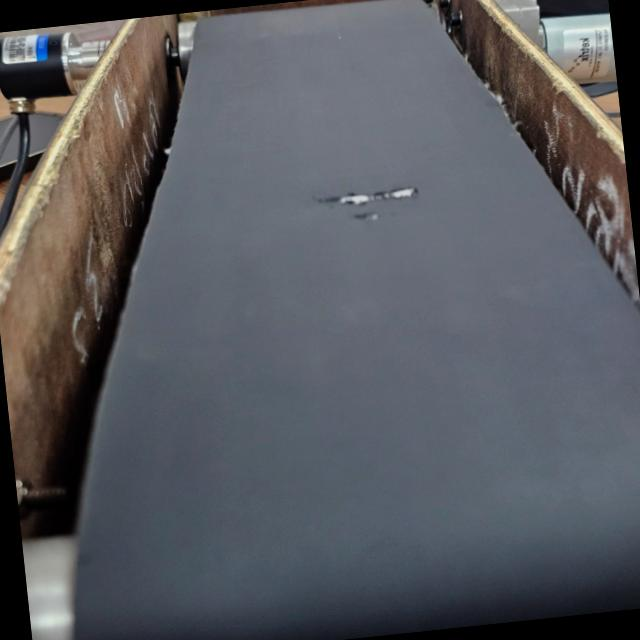eroded: (254, 184, 425, 245)
